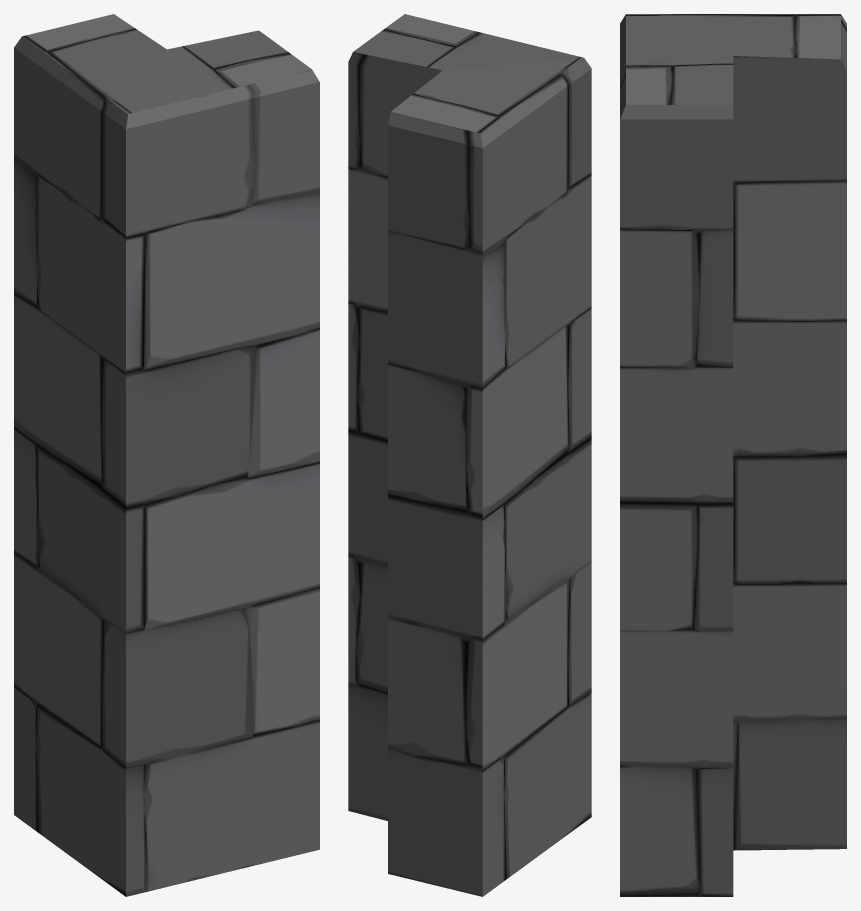
Rendered from SM_Bld_Base_Pillar_Half_02.fbx.
The picture shows the model from 3 angles, left to right: view 1: azimuth 30°, elevation 25°; view 2: azimuth 150°, elevation 25°; view 3: azimuth 270°, elevation 25°; orthographic projection. The views are drawn at different scales.
Parts seen in each view (by area): view 1: SM_Bld_Base_Pillar_Half_02; view 2: SM_Bld_Base_Pillar_Half_02; view 3: SM_Bld_Base_Pillar_Half_02.
Part boxes in pixels (x1,y1,x2,y2): SM_Bld_Base_Pillar_Half_02: (14,14,319,896); SM_Bld_Base_Pillar_Half_02: (348,14,591,896); SM_Bld_Base_Pillar_Half_02: (620,14,846,896).
Bounding box in the file's own units: 39.12 × 151 × 39.12.
